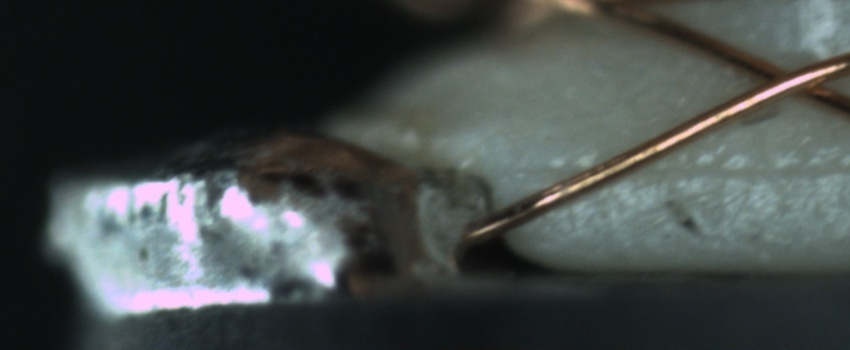CL: (723, 43, 850, 110)
DL: (534, 140, 850, 201)
